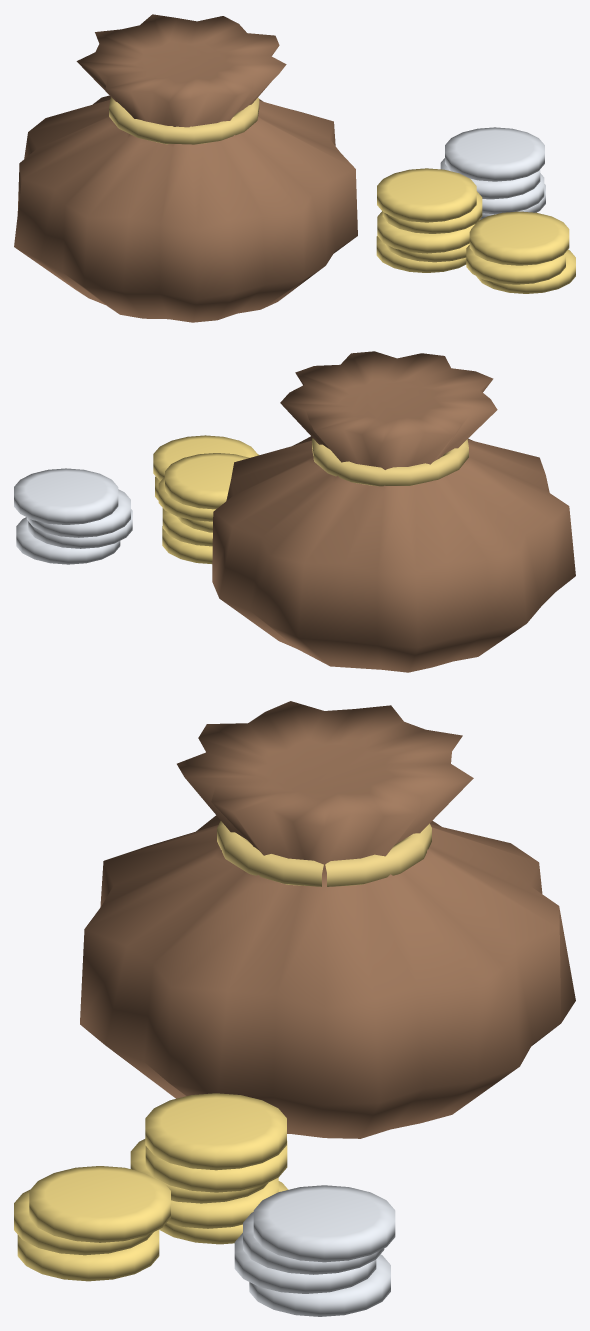
Rendered from coins_pouch.glb.
The picture shows the model from 3 angles, top to bottom: view 1: azimuth 30°, elevation 25°; view 2: azimuth 150°, elevation 25°; view 3: azimuth 270°, elevation 25°; orthographic projection. The views are drawn at different scales.
Parts seen in each view (by area): view 1: CoinsPouchBag, FlorinCoin_0_4, FlorinCoin_2_2, FlorinCoin_1_3, PouchDrawstring, FlorinCoin_2_1, FlorinCoin_0_2, FlorinCoin_0_3, FlorinCoin_1_2, FlorinCoin_2_0, FlorinCoin_0_0, FlorinCoin_1_1 (+1 smaller); view 2: CoinsPouchBag, FlorinCoin_1_3, FlorinCoin_0_4, PouchDrawstring, FlorinCoin_2_2, FlorinCoin_1_0, FlorinCoin_1_2, FlorinCoin_1_1, FlorinCoin_0_1, FlorinCoin_0_0, FlorinCoin_0_3; view 3: CoinsPouchBag, FlorinCoin_1_3, FlorinCoin_0_4, FlorinCoin_2_2, PouchDrawstring, FlorinCoin_2_0, FlorinCoin_1_0, FlorinCoin_0_3, FlorinCoin_1_1, FlorinCoin_0_1, FlorinCoin_2_1, FlorinCoin_1_2 (+2 smaller).
Boxes of the visible parts, left/top/right/bottom form: CoinsPouchBag: left=14, top=14, right=357, bottom=322; FlorinCoin_0_4: left=377, top=168, right=476, bottom=222; FlorinCoin_2_2: left=469, top=211, right=569, bottom=265; FlorinCoin_1_3: left=445, top=127, right=544, bottom=181; PouchDrawstring: left=109, top=97, right=259, bottom=144; FlorinCoin_2_1: left=466, top=245, right=565, bottom=284; FlorinCoin_0_2: left=377, top=211, right=474, bottom=253; FlorinCoin_0_3: left=382, top=191, right=482, bottom=233; FlorinCoin_1_2: left=440, top=158, right=540, bottom=199; FlorinCoin_2_0: left=476, top=249, right=575, bottom=293; FlorinCoin_0_0: left=376, top=236, right=466, bottom=272; FlorinCoin_1_1: left=482, top=173, right=544, bottom=214; CoinsPouchBag: left=212, top=351, right=575, bottom=672; FlorinCoin_1_3: left=14, top=468, right=118, bottom=524; FlorinCoin_0_4: left=165, top=453, right=249, bottom=509; PouchDrawstring: left=312, top=438, right=468, bottom=486; FlorinCoin_2_2: left=153, top=435, right=257, bottom=481; FlorinCoin_1_0: left=16, top=517, right=120, bottom=564; FlorinCoin_1_2: left=26, top=489, right=130, bottom=537; FlorinCoin_1_1: left=28, top=509, right=132, bottom=548; FlorinCoin_0_1: left=162, top=508, right=212, bottom=546; FlorinCoin_0_0: left=162, top=526, right=212, bottom=563; FlorinCoin_0_3: left=158, top=476, right=215, bottom=521; CoinsPouchBag: left=80, top=701, right=575, bottom=1138; FlorinCoin_1_3: left=253, top=1185, right=395, bottom=1262; FlorinCoin_0_4: left=145, top=1093, right=286, bottom=1170; FlorinCoin_2_2: left=29, top=1166, right=170, bottom=1242; PouchDrawstring: left=217, top=821, right=431, bottom=886; FlorinCoin_2_0: left=17, top=1229, right=159, bottom=1281; FlorinCoin_1_0: left=249, top=1254, right=390, bottom=1316; FlorinCoin_0_3: left=145, top=1141, right=287, bottom=1192; FlorinCoin_1_1: left=234, top=1233, right=376, bottom=1293; FlorinCoin_0_1: left=167, top=1177, right=278, bottom=1228; FlorinCoin_2_1: left=14, top=1189, right=153, bottom=1255; FlorinCoin_1_2: left=243, top=1212, right=384, bottom=1274.
Bounding box in the file's own units: 0.2533 × 0.104 × 0.172.
